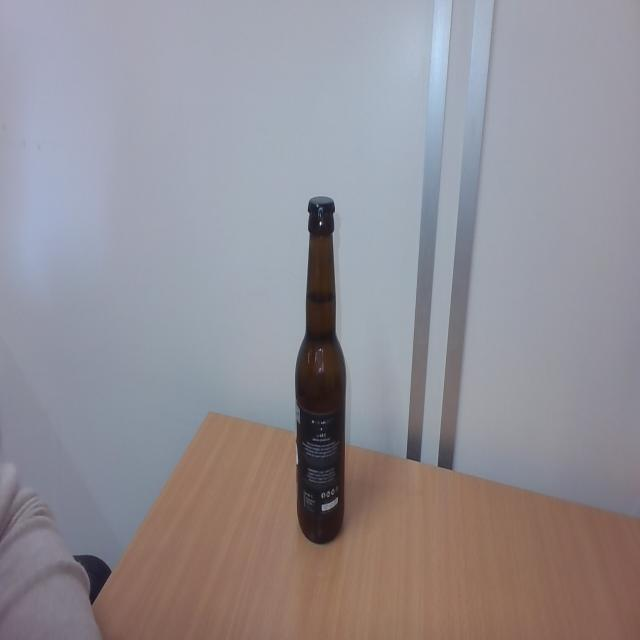Bottle: (294, 222, 344, 542)
Cap: (306, 192, 336, 220)
Label: (294, 403, 346, 514)
